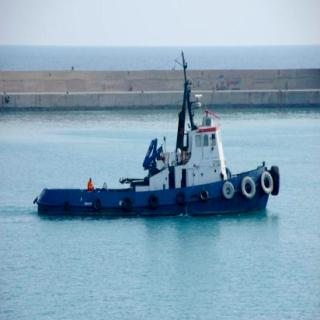Tug Boat: (36, 92, 288, 213)
